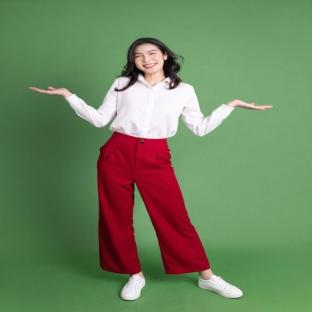Human: (29, 37, 272, 300)
